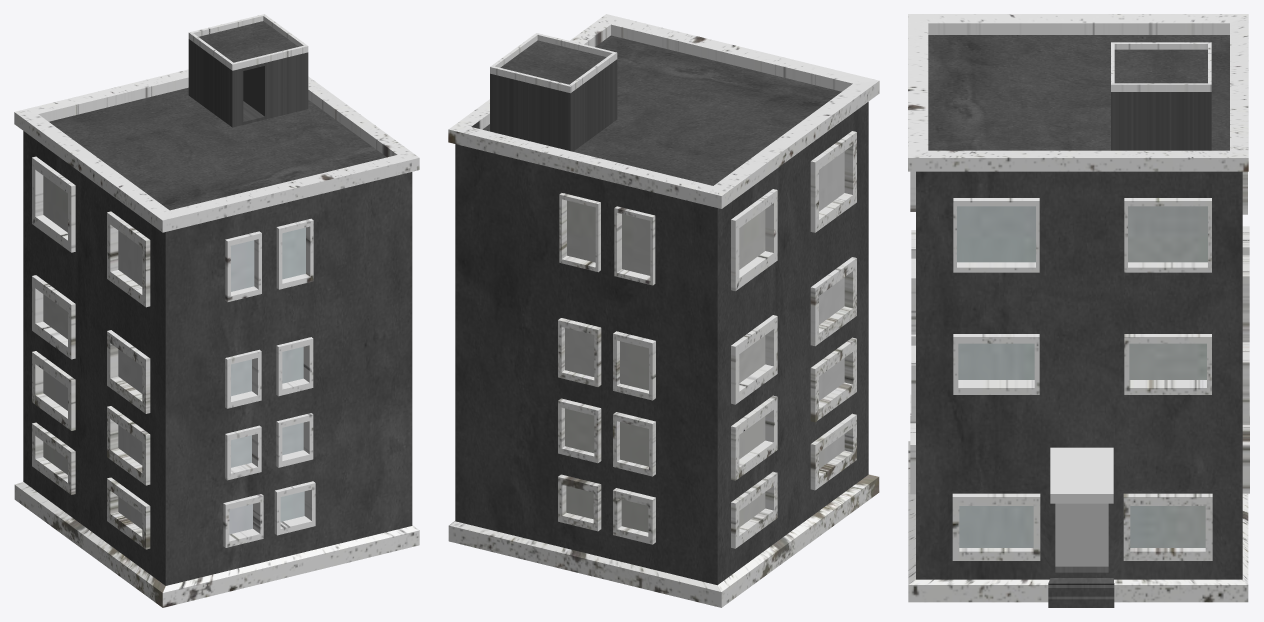
File: building.fbx
3 views of the same model, side by side, from view 1: azimuth 30°, elevation 25°; view 2: azimuth 150°, elevation 25°; view 3: azimuth 270°, elevation 25° (orthographic). The views are drawn at different scales.
Parts seen in each view (by area): view 1: Cube, Cube.003, Cube.002, Cube.001; view 2: Cube, Cube.002, Cube.003, Cube.001; view 3: Cube, Cube.002, Cube.001, Cube.003, Cube.004, Cube.005.
Part boxes in pixels (x1,y1,x2,y2): Cube: (23, 21, 412, 585); Cube.003: (32, 156, 315, 549); Cube.002: (14, 14, 419, 607); Cube.001: (43, 176, 305, 534); Cube: (455, 35, 868, 585); Cube.002: (448, 14, 879, 607); Cube.003: (558, 131, 856, 548); Cube.001: (565, 151, 844, 532); Cube: (916, 35, 1242, 607); Cube.002: (908, 14, 1248, 602); Cube.001: (957, 206, 1207, 547); Cube.003: (910, 171, 1249, 560); Cube.004: (1050, 447, 1113, 503); Cube.005: (1055, 503, 1108, 566).
Bounding box in the file's own units: 1136 × 1706 × 1047.
